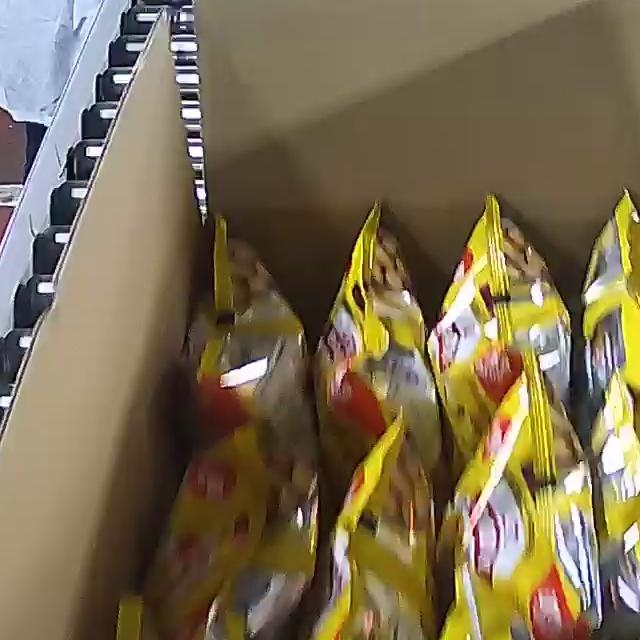salted: (104, 186, 640, 640)
